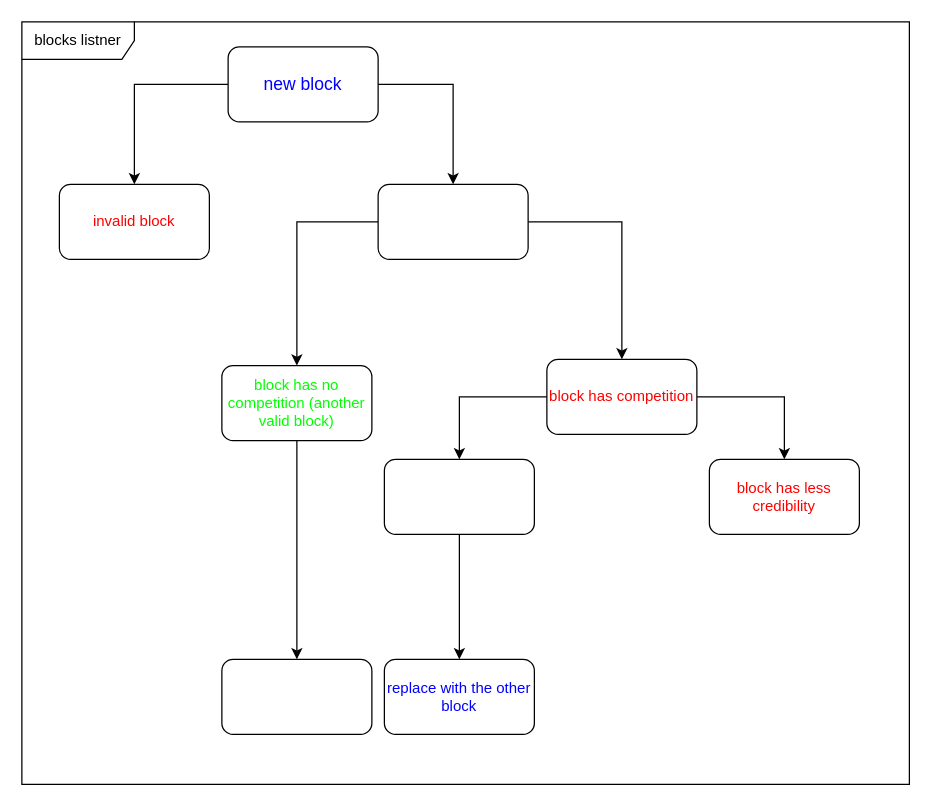
The diagram is 931 pixels wide and 806 high, and some of its shapes have lost their labels. Each missing label, with the box of its shape:
add to chain: (221, 658, 372, 734)
block have more credibility: (383, 458, 534, 534)
valid block: (377, 183, 528, 259)
